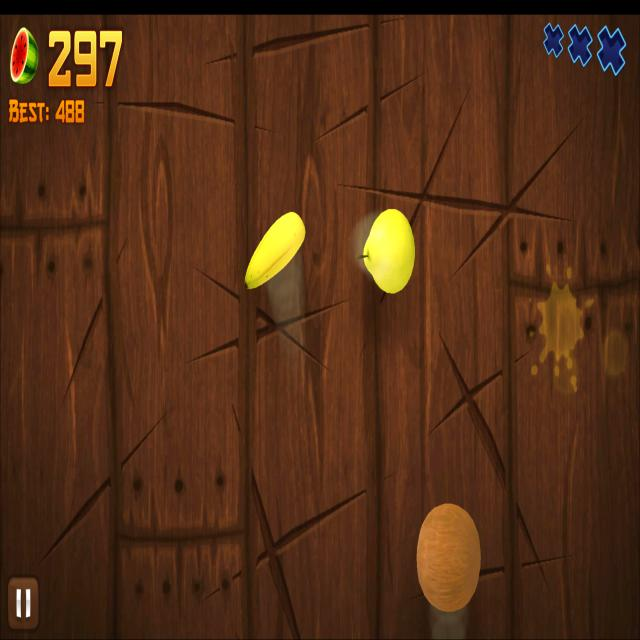fruit: (416, 500, 482, 616), (244, 210, 306, 290), (364, 207, 416, 295)
